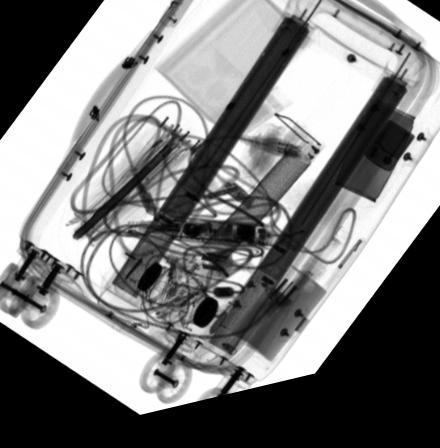Lighter: (362, 136, 415, 190)
